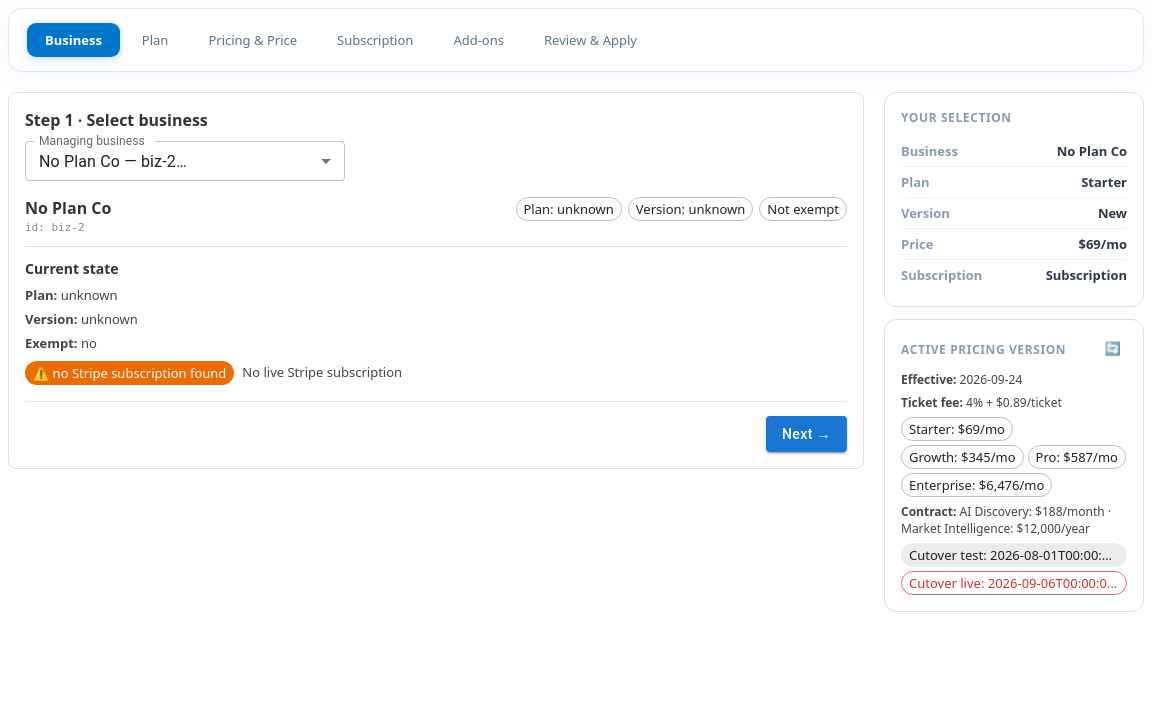
PricingConsole (guided stepped workflow) › Step 2 previews a plan level's product mix for a business with no known plan (defaults to Starter)
Expected: the element with test id "business-plan-unknown" is shown, [516,197,622,221]
Step 1. Click the button with test id "pc-next" → (806, 434), box [766,416,847,452]
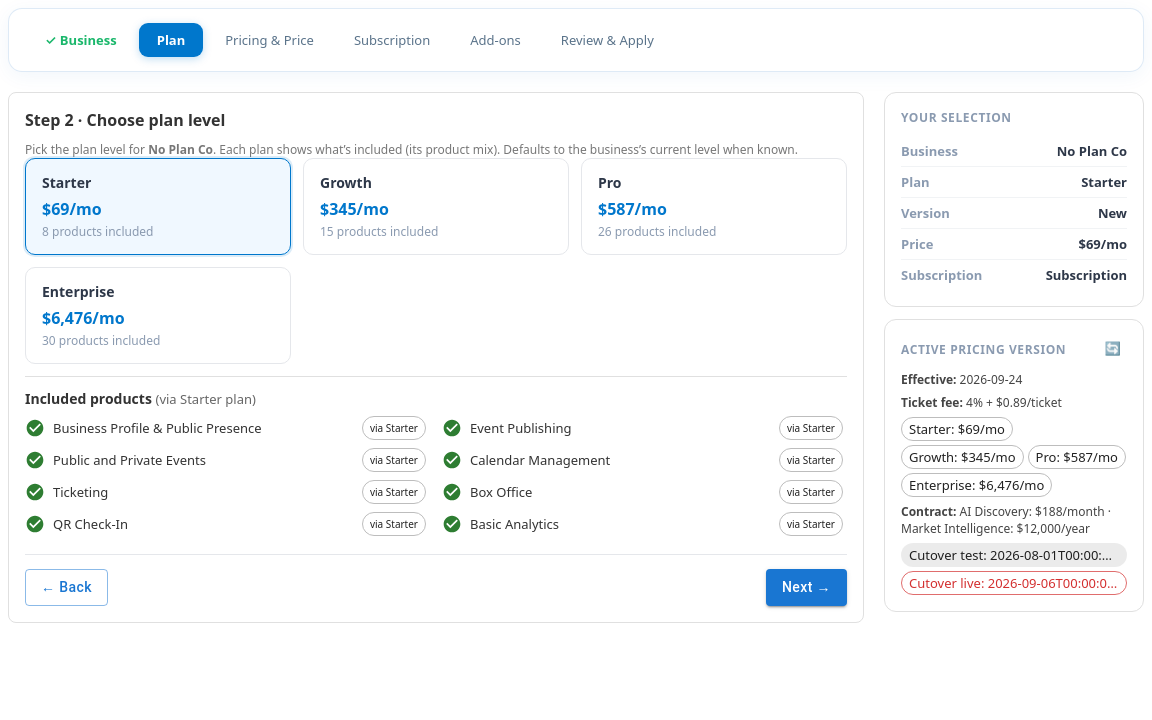
Expected: the number of list items is 8
